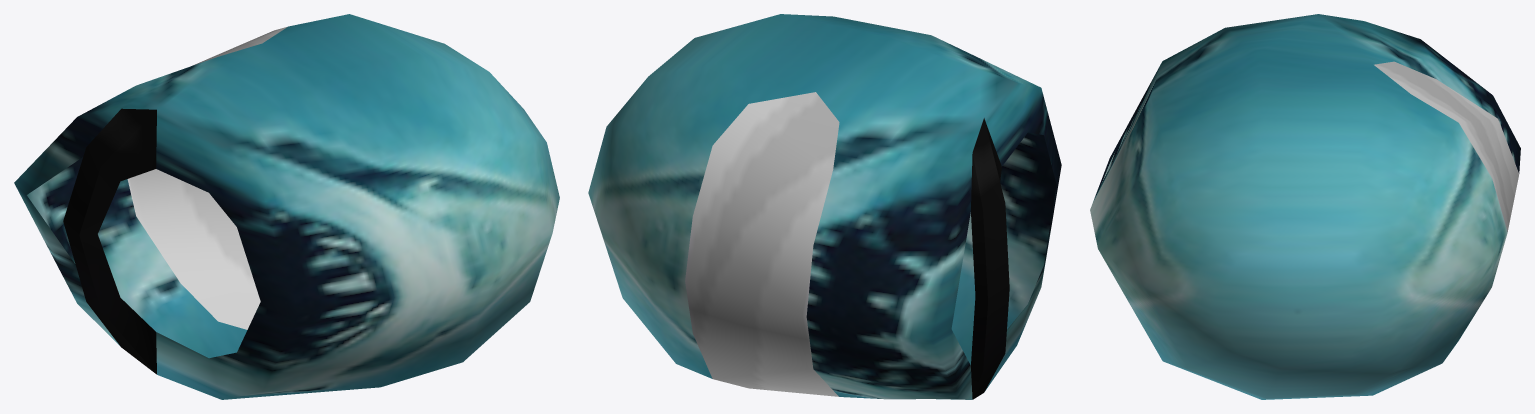
Rendered from CrashHelmetFullJaws.fbx.
3 renders of one model, left to right at view 1: azimuth 30°, elevation 25°; view 2: azimuth 150°, elevation 25°; view 3: azimuth 270°, elevation 25°, orthographic. The views are drawn at different scales.
Parts seen in each view (by area): view 1: M_CrashHelmetFULL.018; view 2: M_CrashHelmetFULL.018; view 3: M_CrashHelmetFULL.018.
Part boxes in pixels (left/top/right/bottom): M_CrashHelmetFULL.018: left=14, top=14, right=559, bottom=399; M_CrashHelmetFULL.018: left=588, top=14, right=1061, bottom=399; M_CrashHelmetFULL.018: left=1090, top=14, right=1520, bottom=399.
Size of the model in its own units: 0.1978 by 0.1445 by 0.1857.
